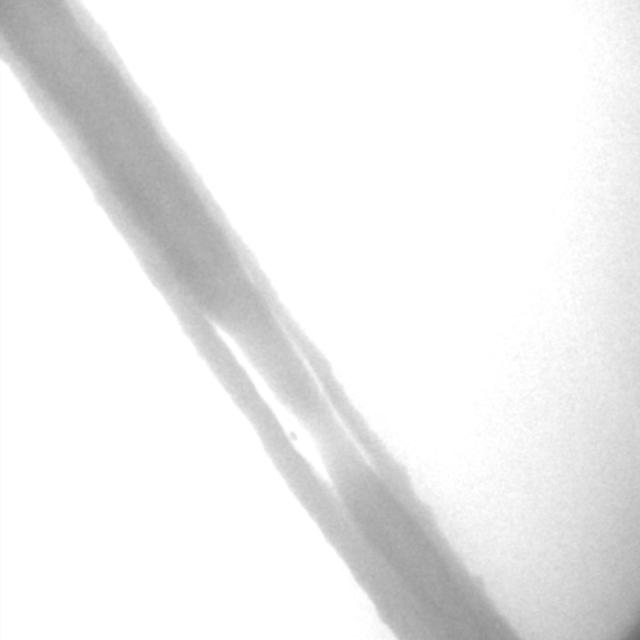unfused: (201, 304, 378, 510)
